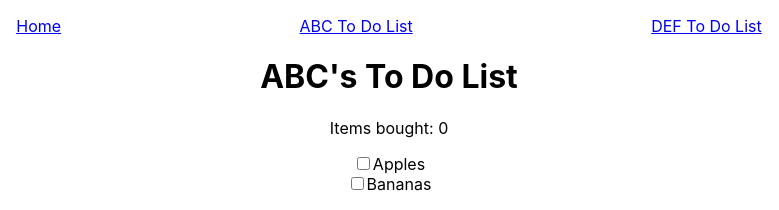
Initialize ToDoList › render DEF todolist
Click the link "DEF To Do List".
click(706, 26)  # box left=651, top=16, right=762, bottom=36
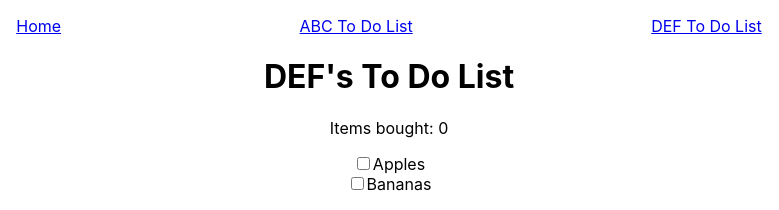
Expected: the text "Items bought: 0" is shown, left=330, top=118, right=448, bottom=138
Now the heading "DEF's To Do List" is shown, box left=264, top=57, right=514, bottom=96
